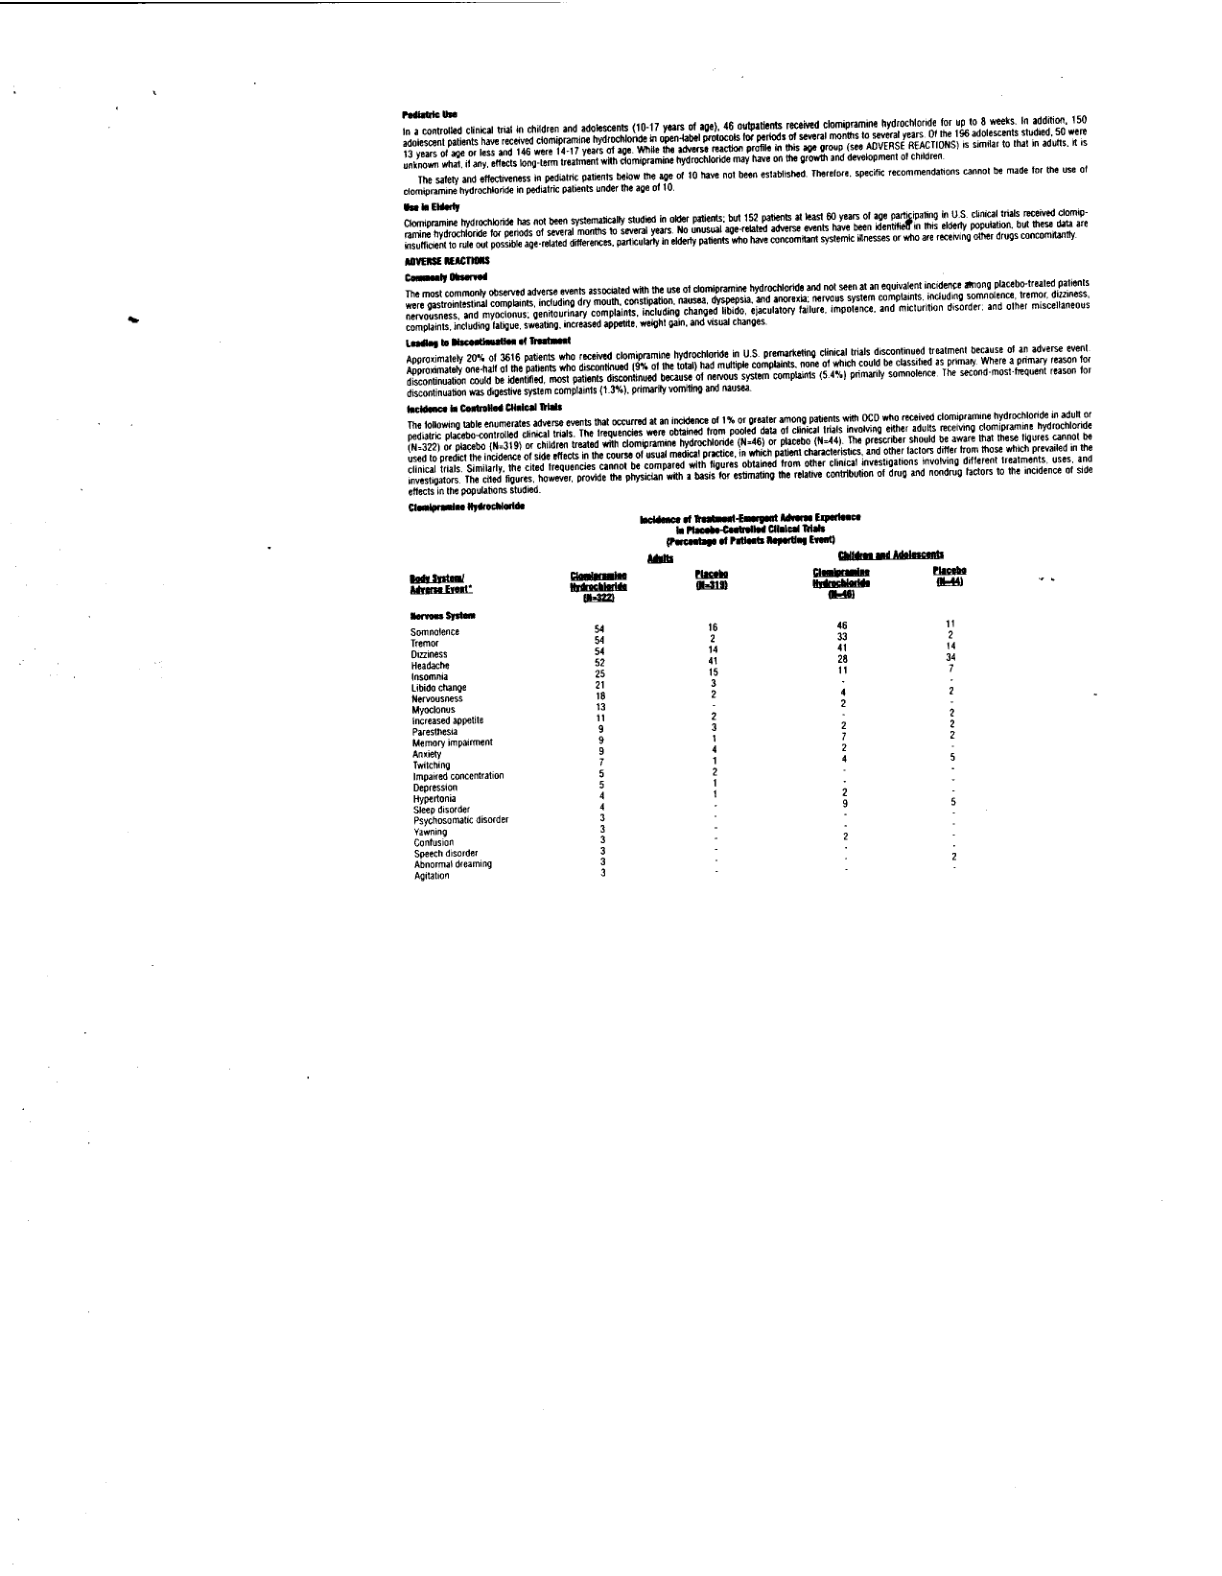nolines: (406, 551, 967, 881)
